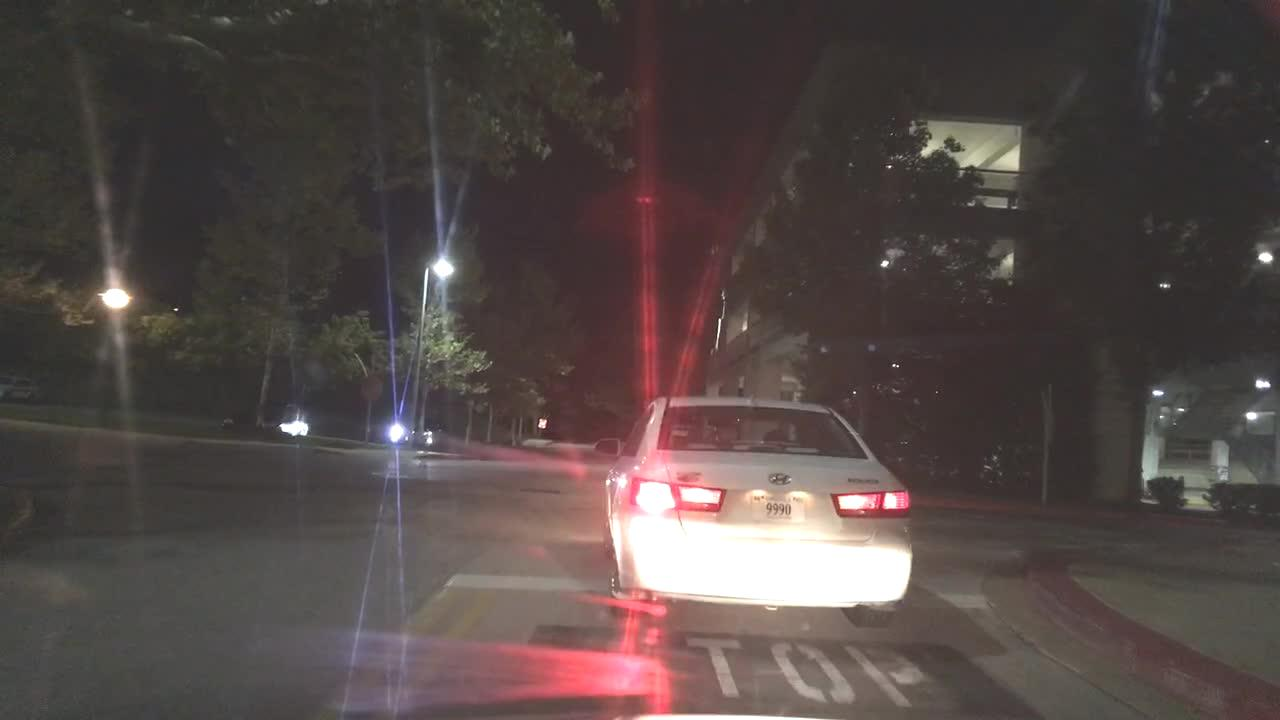Hyundai: (765, 467, 795, 488)
